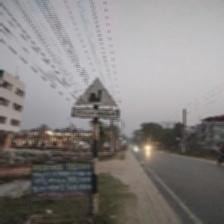Mosque in front: (70, 76, 124, 128)
